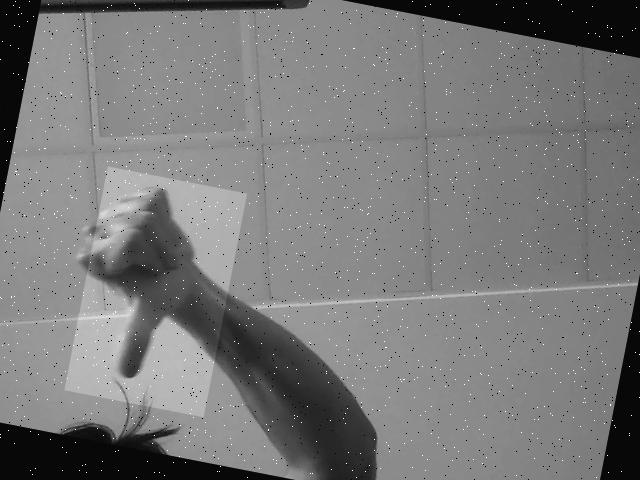bad: (64, 166, 246, 417)
